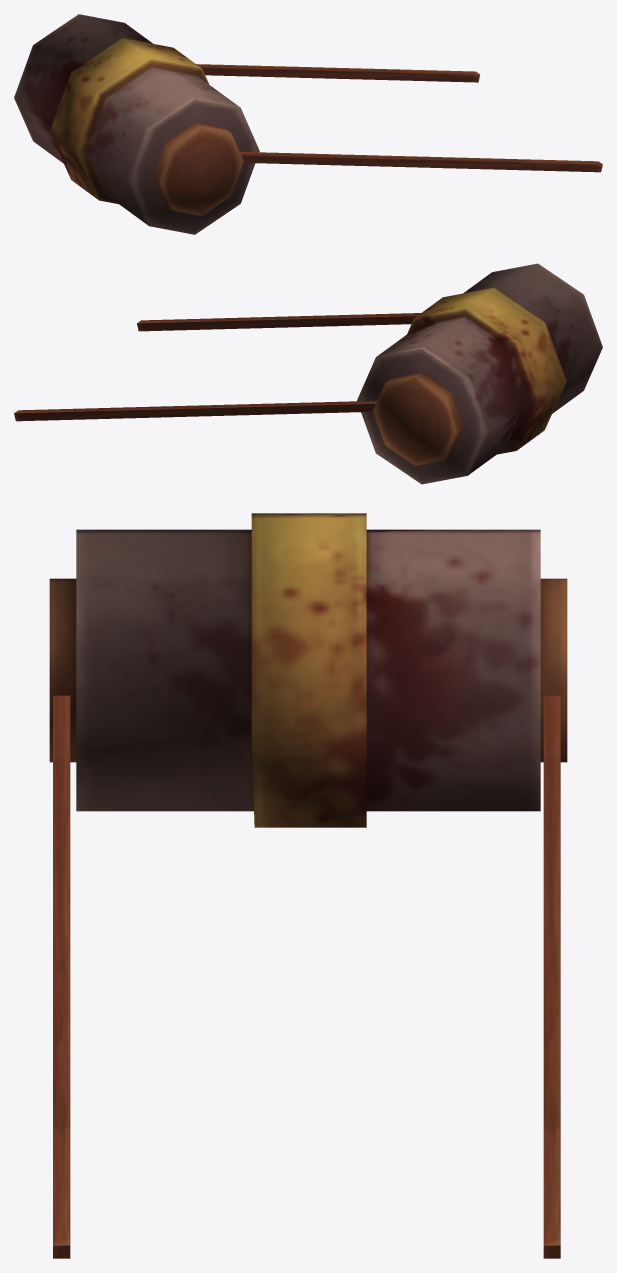
The model's file is Stage_01_01_GunZi.FBX.
3 renders of one model, top to bottom at view 1: azimuth 30°, elevation 25°; view 2: azimuth 150°, elevation 25°; view 3: azimuth 270°, elevation 25°, orthographic. The views are drawn at different scales.
Visible parts, largest first — view 1: Stage_01_01_GunZi; view 2: Stage_01_01_GunZi; view 3: Stage_01_01_GunZi.
Part boxes in pixels (bbox=[...]): Stage_01_01_GunZi: bbox=[14, 14, 602, 234]; Stage_01_01_GunZi: bbox=[14, 263, 602, 484]; Stage_01_01_GunZi: bbox=[49, 513, 567, 1258].
Bounding box in the file's own units: 446 × 157 × 210.
